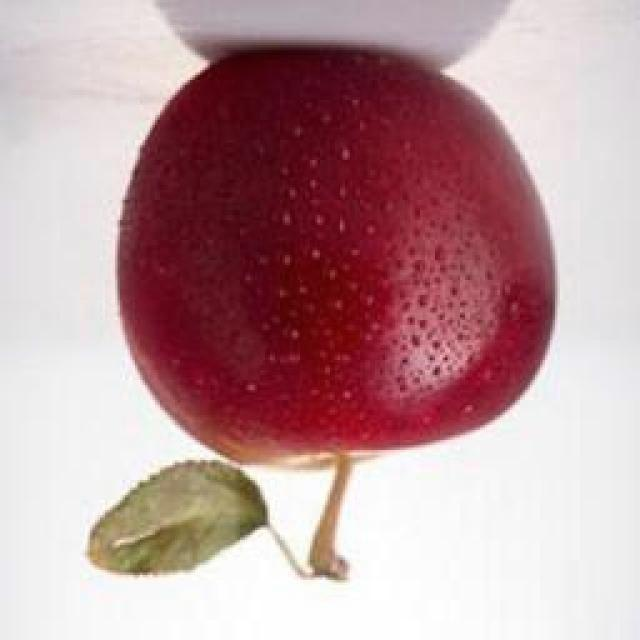Apple: (119, 48, 554, 462)
